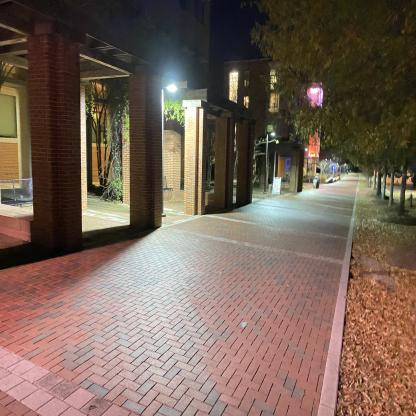eb2: (0, 0, 234, 224)
